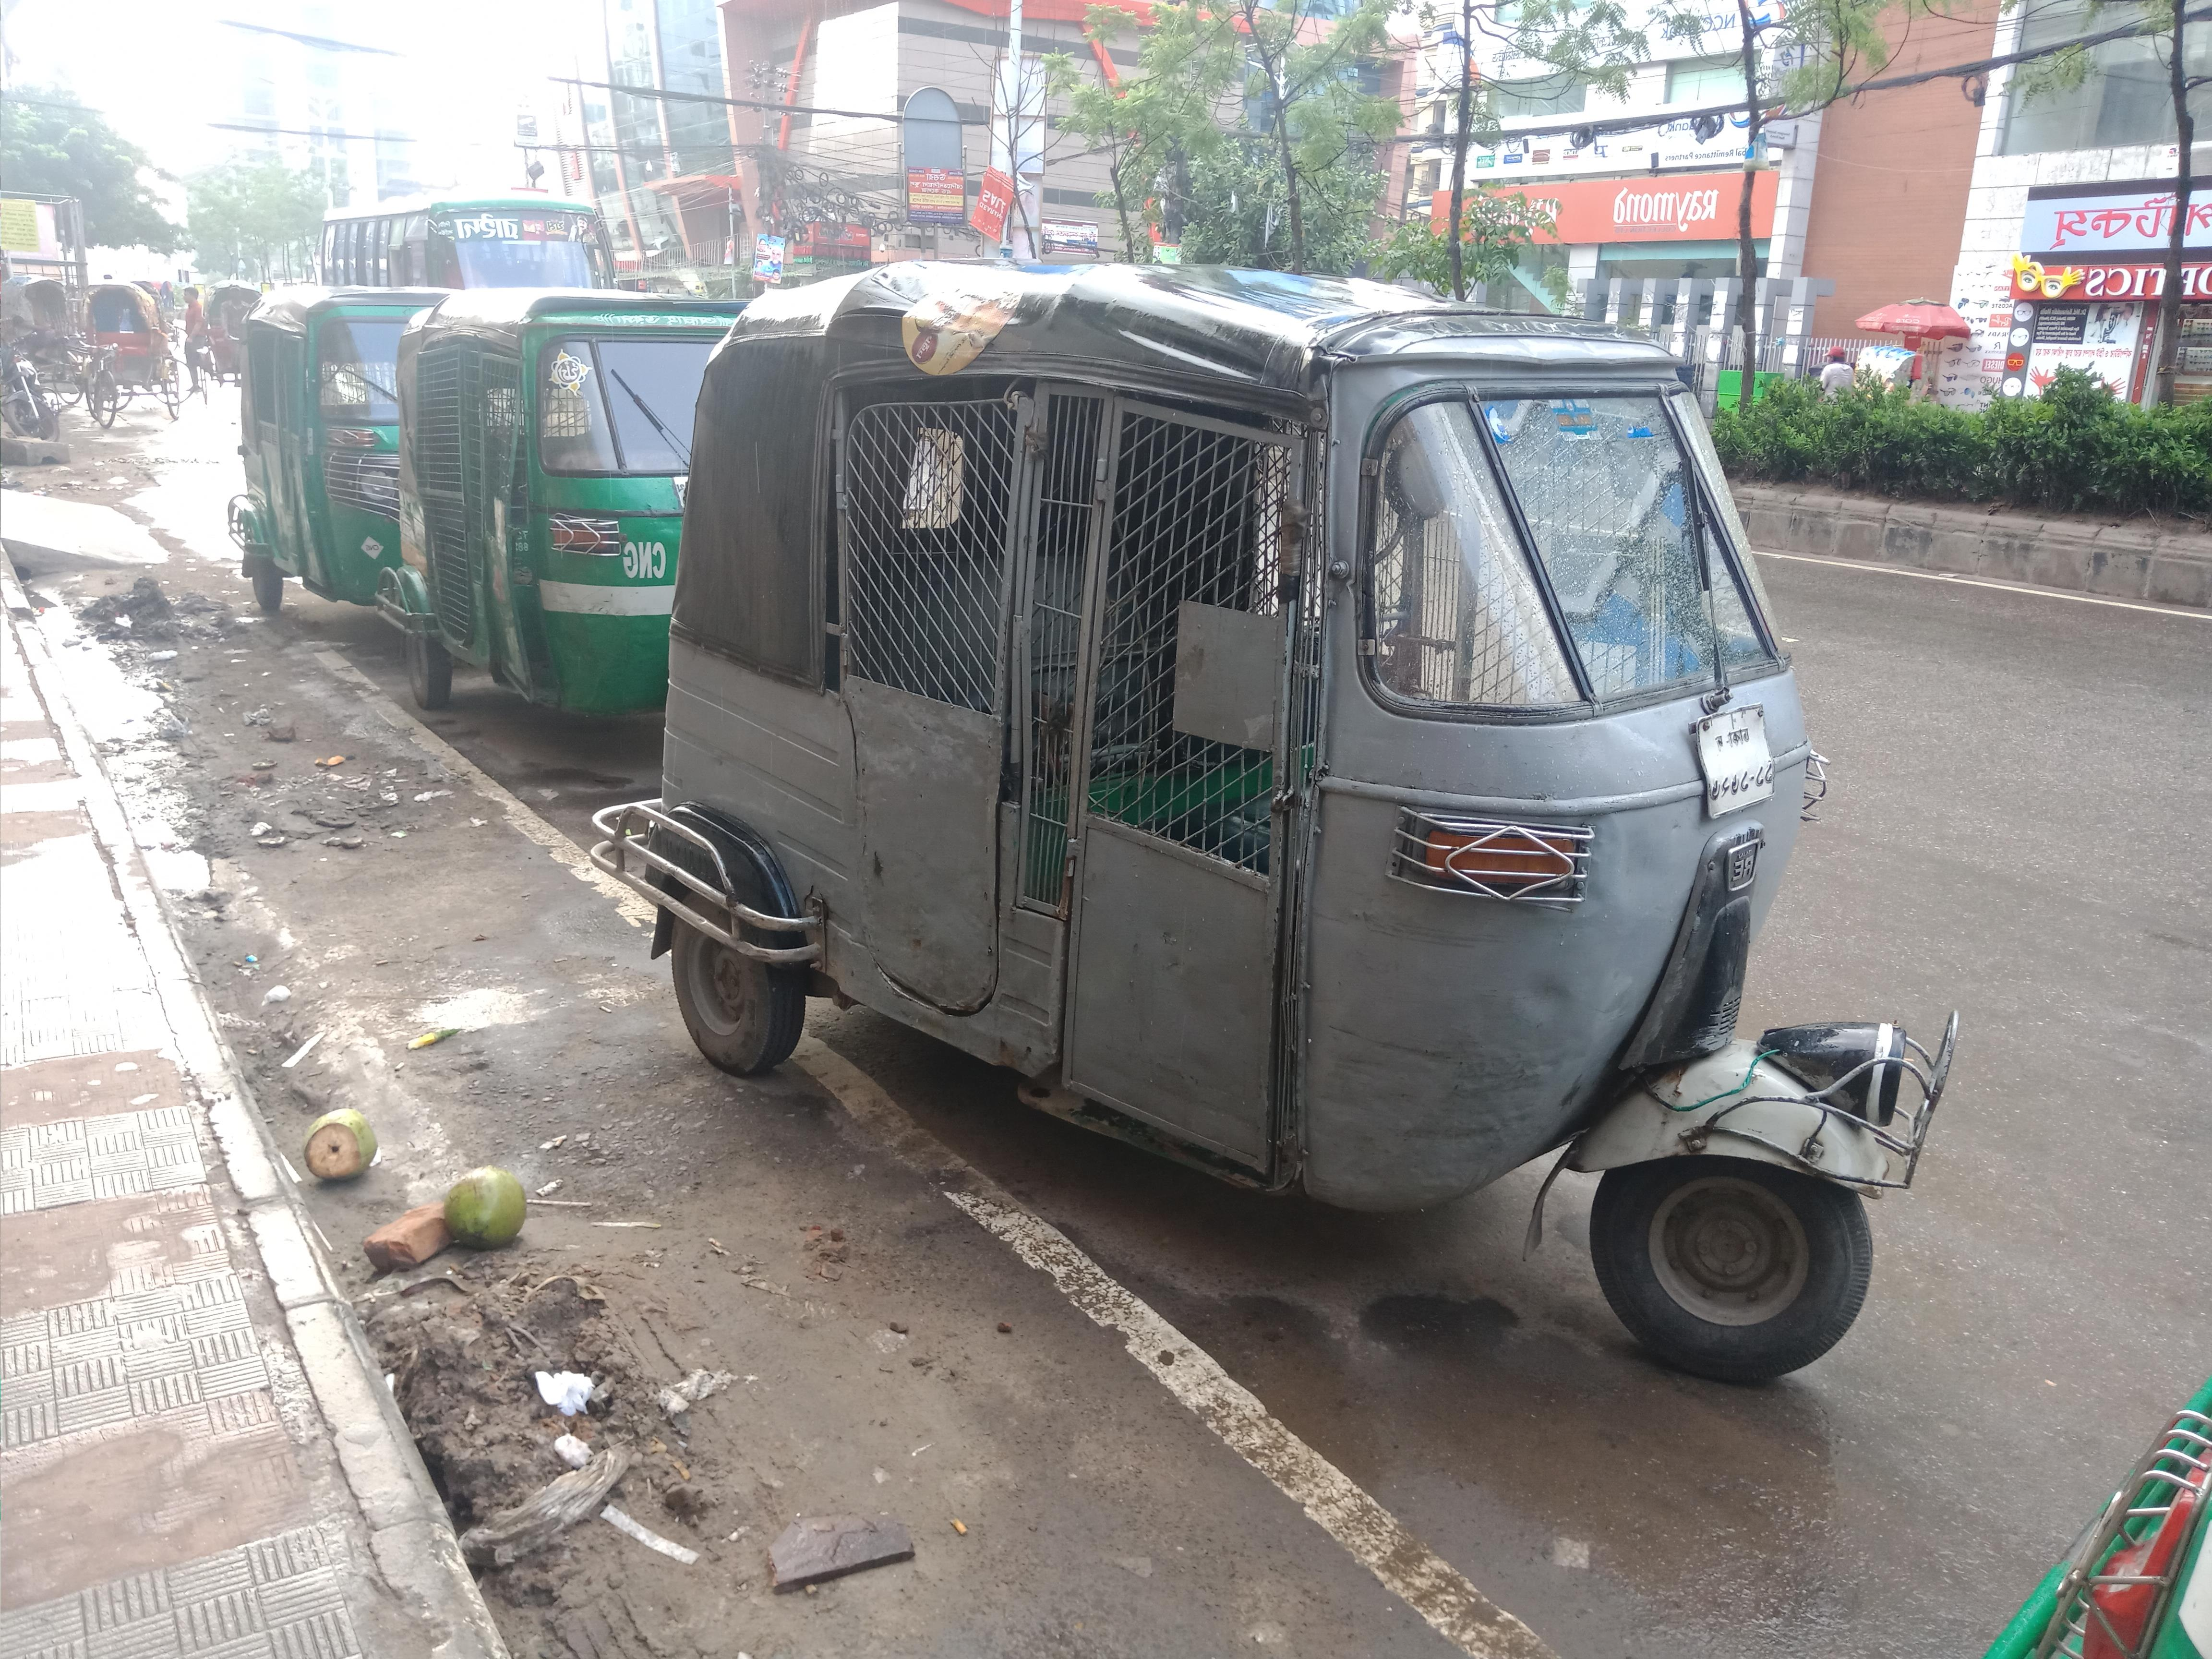bus: (307, 179, 620, 303)
cng: (578, 242, 2000, 1403), (390, 265, 705, 746), (214, 274, 421, 633)
rickshaw: (75, 267, 195, 437), (17, 270, 96, 427), (199, 272, 246, 397)
